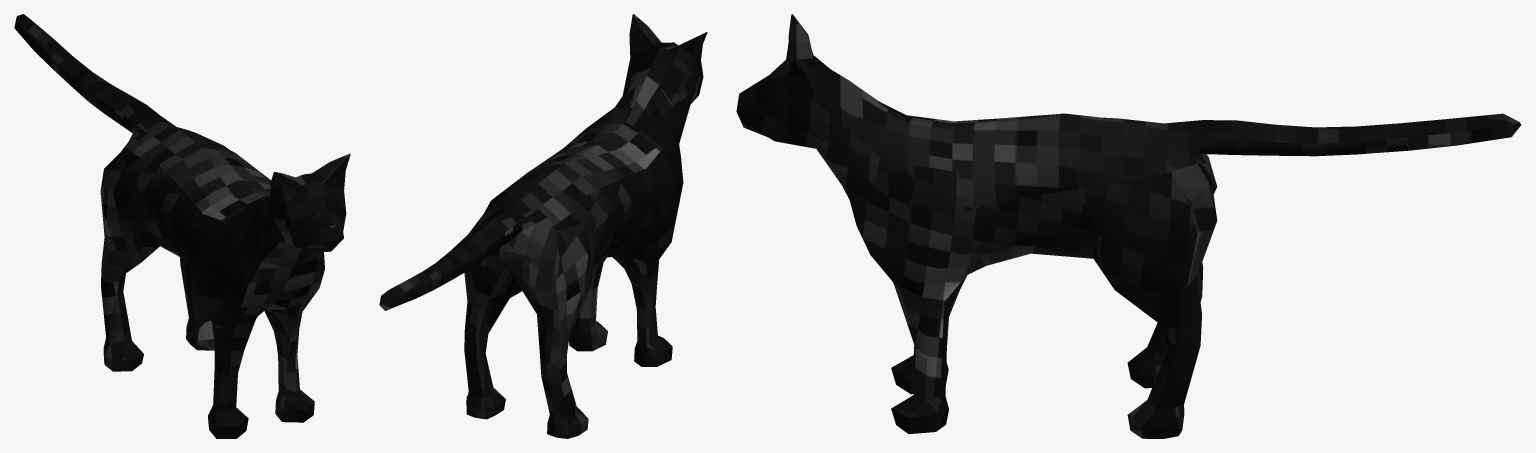
Rendered from Cat.fbx.
3 views of the same model, side by side, from view 1: azimuth 30°, elevation 25°; view 2: azimuth 150°, elevation 25°; view 3: azimuth 270°, elevation 25° (orthographic). The views are drawn at different scales.
Visible parts, largest first — view 1: CatMesh2; view 2: CatMesh2; view 3: CatMesh2.
Part boxes in pixels (left/top/right/bottom): CatMesh2: left=14, top=14, right=350, bottom=438; CatMesh2: left=379, top=14, right=707, bottom=438; CatMesh2: left=736, top=14, right=1521, bottom=438.
Size of the model in its own units: 14.22 by 34.51 by 66.67.
1 material, 1 textured.
